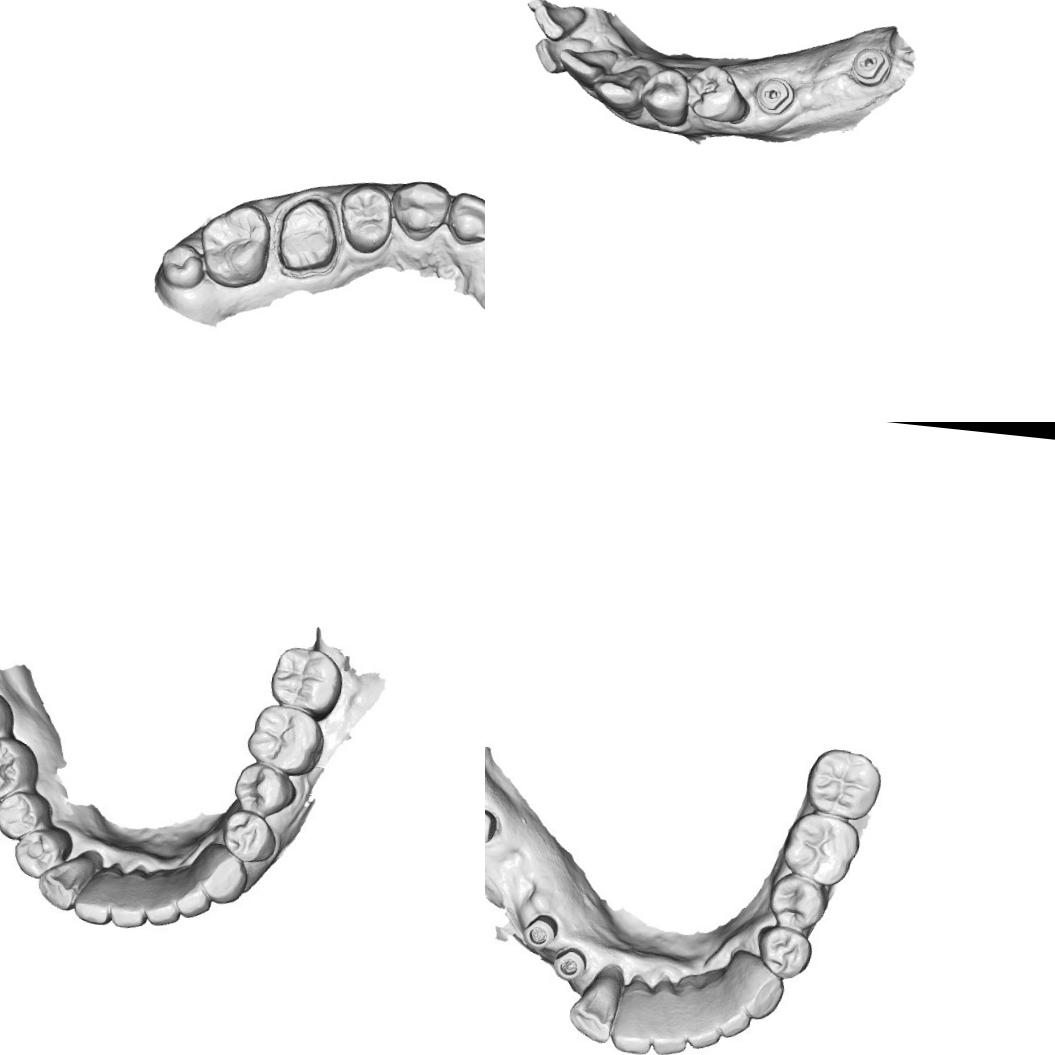canine: (388, 168, 455, 246), (568, 960, 624, 1048), (726, 946, 788, 1022), (587, 59, 651, 122), (35, 850, 94, 914), (191, 846, 249, 906)
crown: (269, 190, 343, 280)
implant: (518, 902, 560, 948), (549, 948, 588, 985), (485, 801, 499, 851)
implant_minus: (848, 43, 894, 90), (752, 74, 798, 118)
incisor: (610, 971, 661, 1055), (700, 971, 754, 1038), (678, 979, 728, 1048), (651, 976, 693, 1055), (71, 864, 122, 926), (555, 43, 620, 91), (111, 865, 158, 928), (532, 32, 594, 78), (444, 185, 485, 248), (531, 0, 589, 43), (144, 869, 184, 926), (176, 870, 207, 918)
molar: (192, 200, 274, 290), (804, 742, 886, 819), (246, 703, 328, 779), (778, 810, 860, 886), (268, 643, 346, 716), (0, 734, 47, 805), (154, 238, 207, 292), (0, 681, 20, 751)
premolar: (334, 176, 400, 258), (684, 60, 754, 125), (230, 762, 302, 820), (10, 823, 75, 885), (636, 65, 692, 129), (219, 808, 282, 864), (758, 922, 818, 980), (0, 784, 55, 842), (768, 876, 826, 931)
